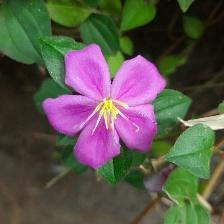malabar melastome: (40, 43, 170, 172)
